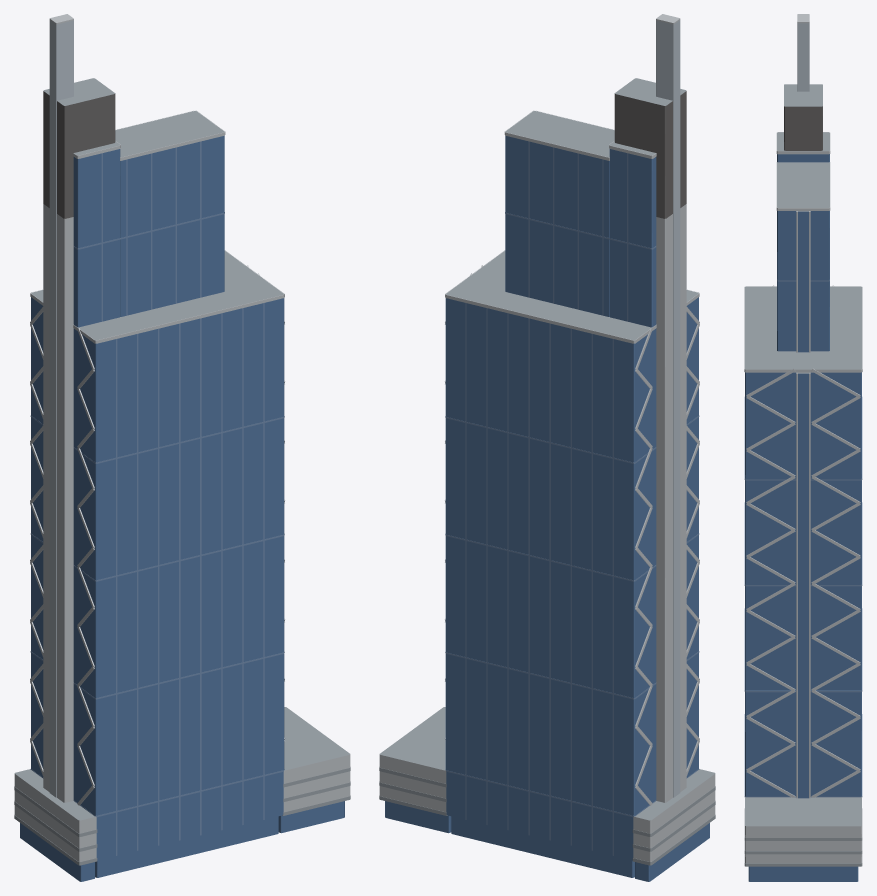
Rendered from phl-comcast-technology-center.glb.
3 views of the same model, side by side, from view 1: azimuth 30°, elevation 25°; view 2: azimuth 150°, elevation 25°; view 3: azimuth 270°, elevation 25° (orthographic). The views are drawn at different scales.
Visible parts, largest first — view 1: Comcast Technology Center; view 2: Comcast Technology Center; view 3: Comcast Technology Center.
Boxes of the visible parts, x1,y1,x2,y2 form: Comcast Technology Center: (14, 14, 350, 881); Comcast Technology Center: (379, 14, 715, 881); Comcast Technology Center: (744, 14, 862, 881).
Size of the model in its own units: 116 by 342 by 48.56.
